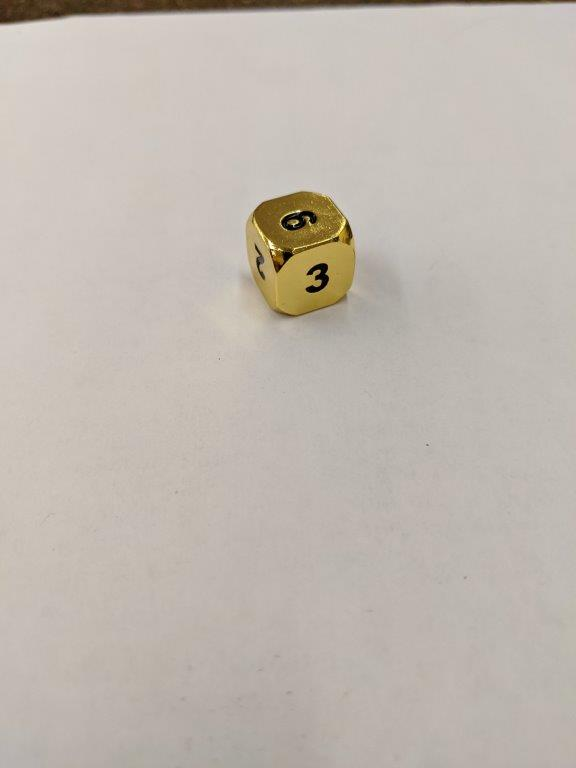d6-6: (247, 190, 356, 319)
